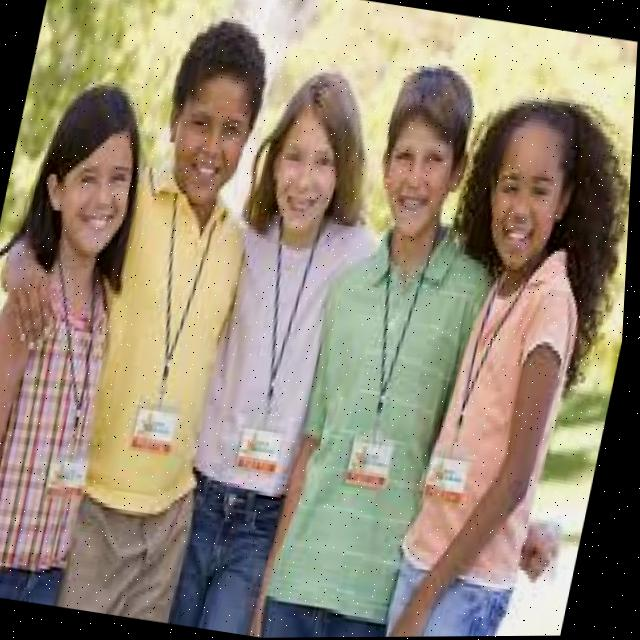id_card: (122, 189, 240, 462), (9, 257, 142, 498), (335, 238, 448, 496), (229, 218, 338, 478), (425, 268, 523, 511)
